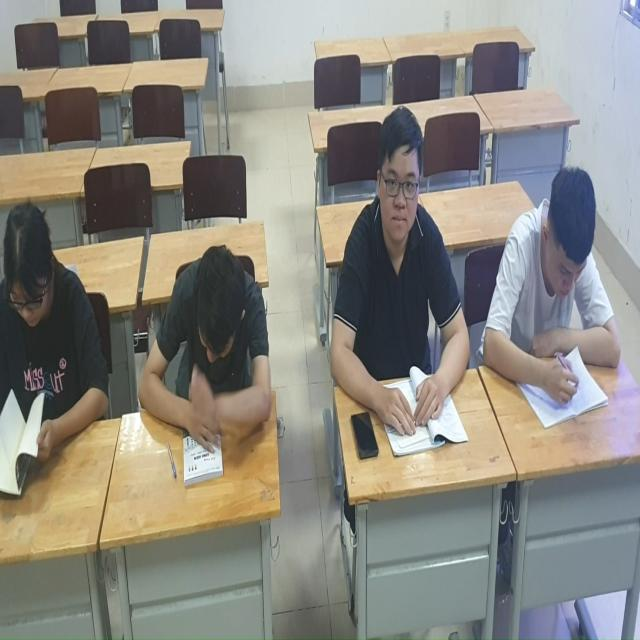read: (337, 93, 470, 438), (486, 156, 635, 438), (1, 204, 128, 502)
sleep: (137, 250, 294, 449)
